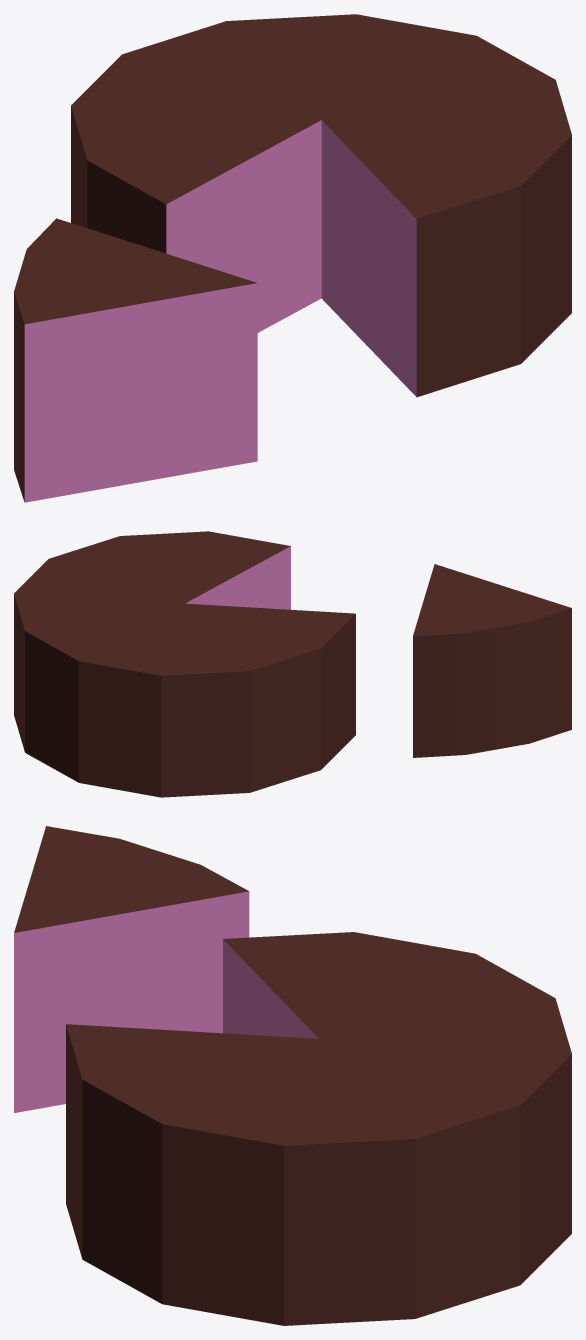
The model's file is Cake.fbx.
The picture shows the model from 3 angles, top to bottom: view 1: azimuth 30°, elevation 25°; view 2: azimuth 150°, elevation 25°; view 3: azimuth 270°, elevation 25°; orthographic projection. The views are drawn at different scales.
Visible parts, largest first — view 1: Cake; view 2: Cake; view 3: Cake.
Boxes of the visible parts, x1=… form: Cake: x1=14, y1=14, x2=571, y2=502; Cake: x1=14, y1=531, x2=571, y2=797; Cake: x1=14, y1=826, x2=571, y2=1325.
Bounding box in the file's own units: 14.13 × 3.71 × 10.42.
